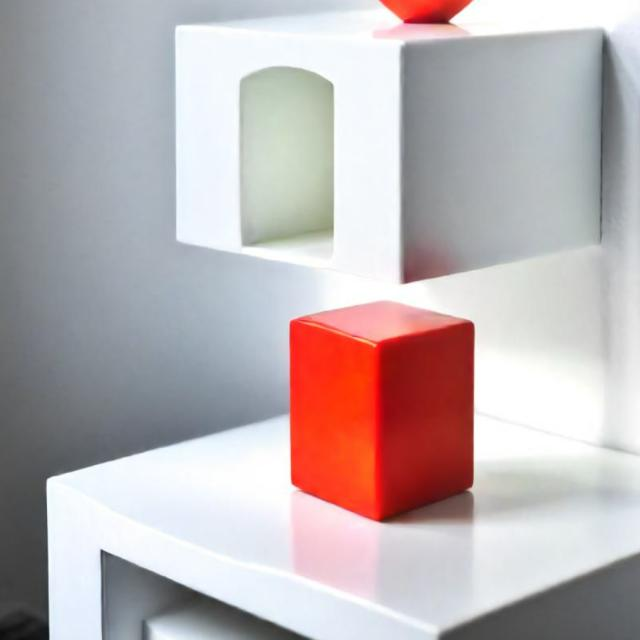red_block: (293, 296, 474, 519)
